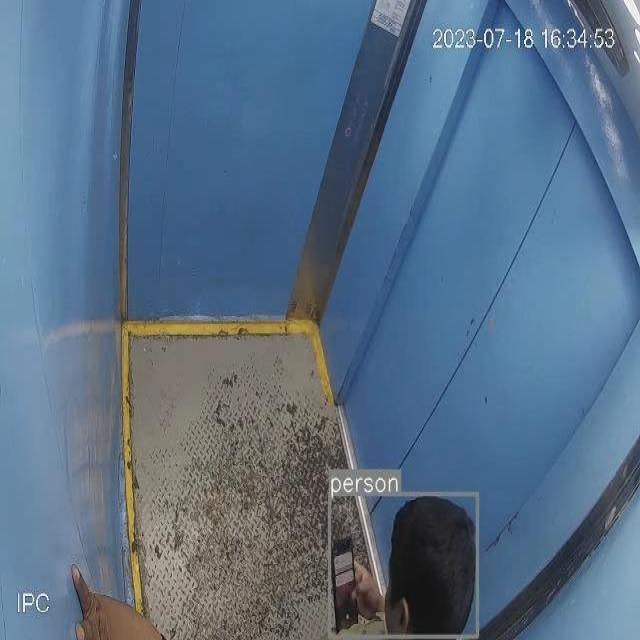person: (326, 496, 475, 640)
